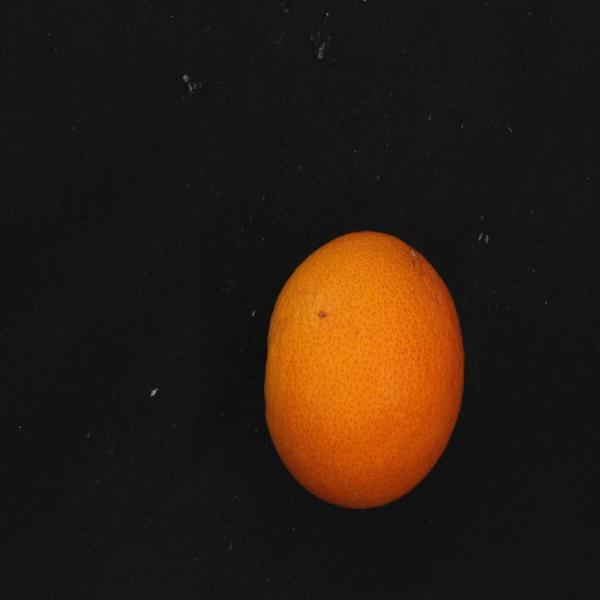Moho verde: (249, 224, 466, 517)
